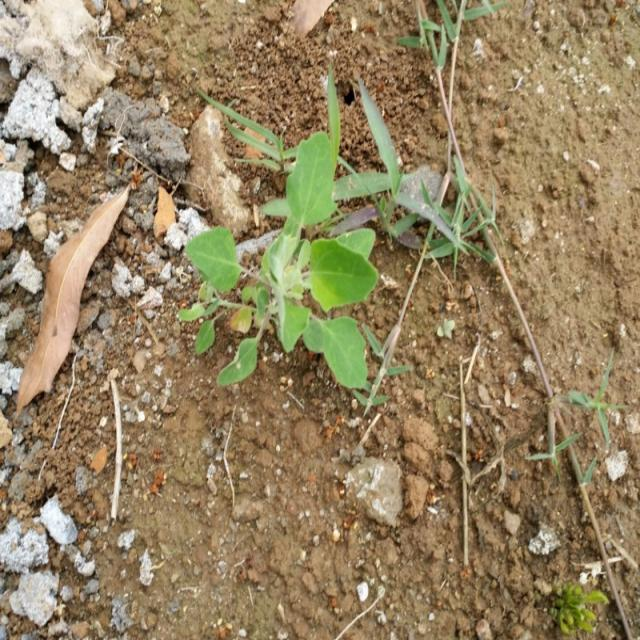ca: (183, 134, 382, 389)
